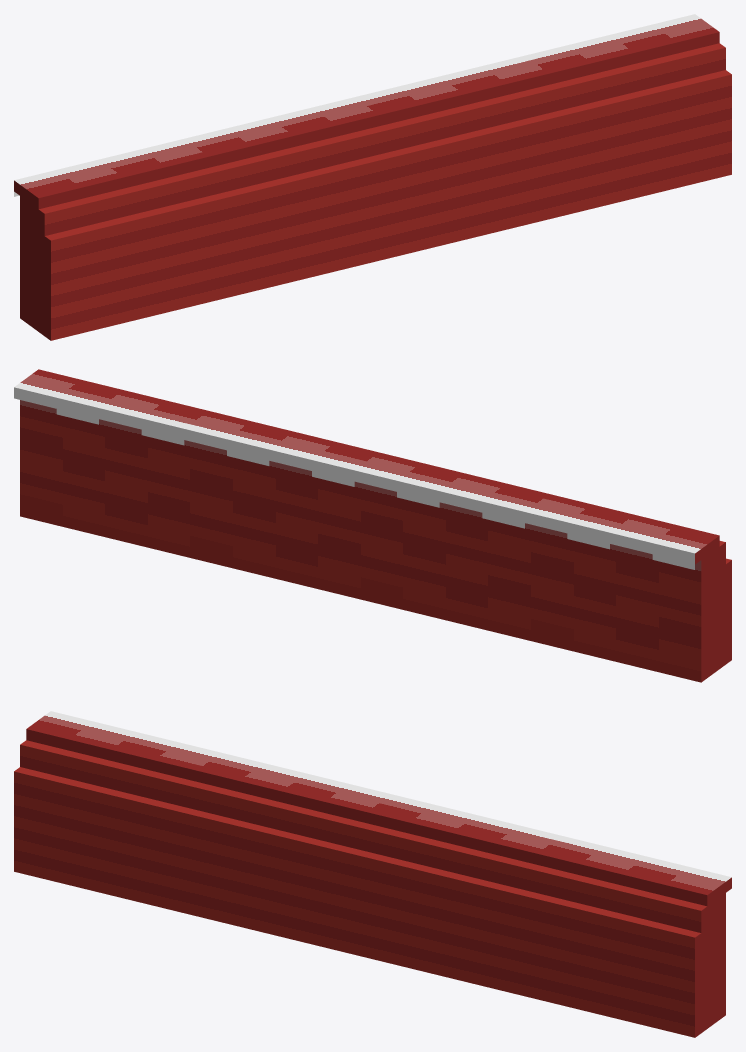
Rendered from wave_red.glb.
3 views of the same model, one above another, from view 1: azimuth 30°, elevation 25°; view 2: azimuth 150°, elevation 25°; view 3: azimuth 330°, elevation 25° (orthographic).
Parts seen in each view (by area): view 1: cube; view 2: cube; view 3: cube.
Boxes of the visible parts, x1,y1,x2,y2 form: cube: (14, 14, 731, 340); cube: (14, 369, 731, 682); cube: (14, 711, 731, 1037).
Bounding box in the file's own units: 64 × 12 × 6.
Materials: 1 (1 with a texture image).
